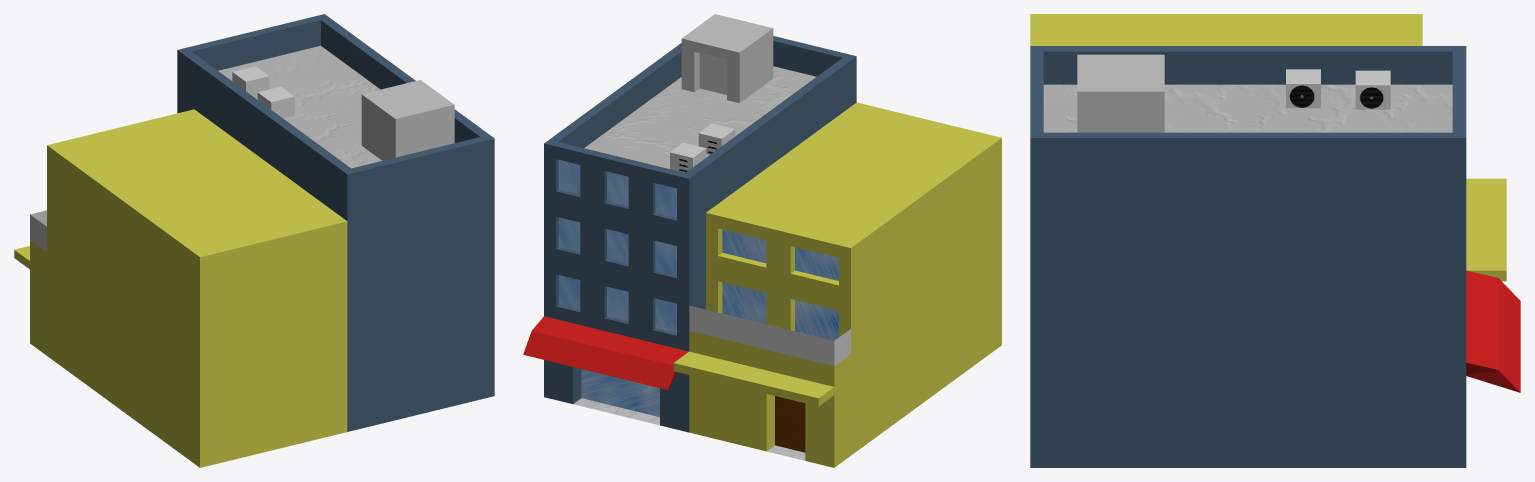
Rendered from Predio2.fbx.
3 views of the same model, side by side, from view 1: azimuth 30°, elevation 25°; view 2: azimuth 150°, elevation 25°; view 3: azimuth 270°, elevation 25° (orthographic). The views are drawn at different scales.
Visible parts, largest first — view 1: Predio2; view 2: Predio2; view 3: Predio2.
Part boxes in pixels (x1,y1,x2,y2): Predio2: (14,14,494,467); Predio2: (523,14,1001,467); Predio2: (1030,14,1520,467).
Bounding box in the file's own units: 1350 × 1200 × 1102.
Materials: 1 (1 with a texture image).
